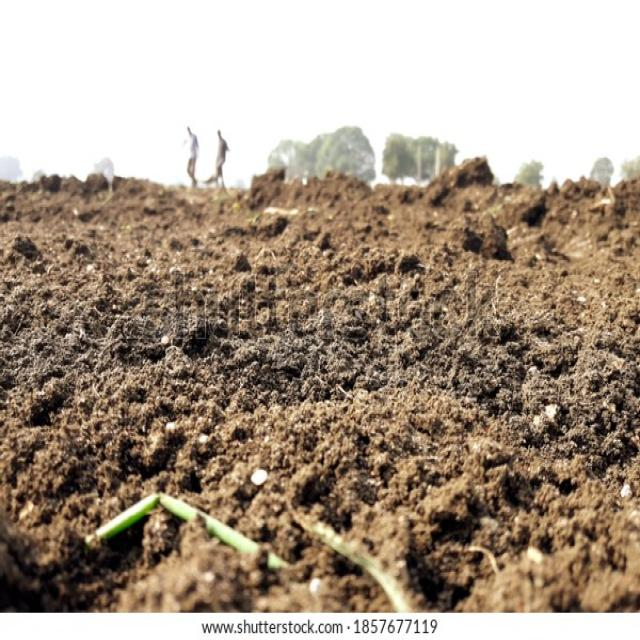Alluvial Soil: (24, 213, 607, 534)
